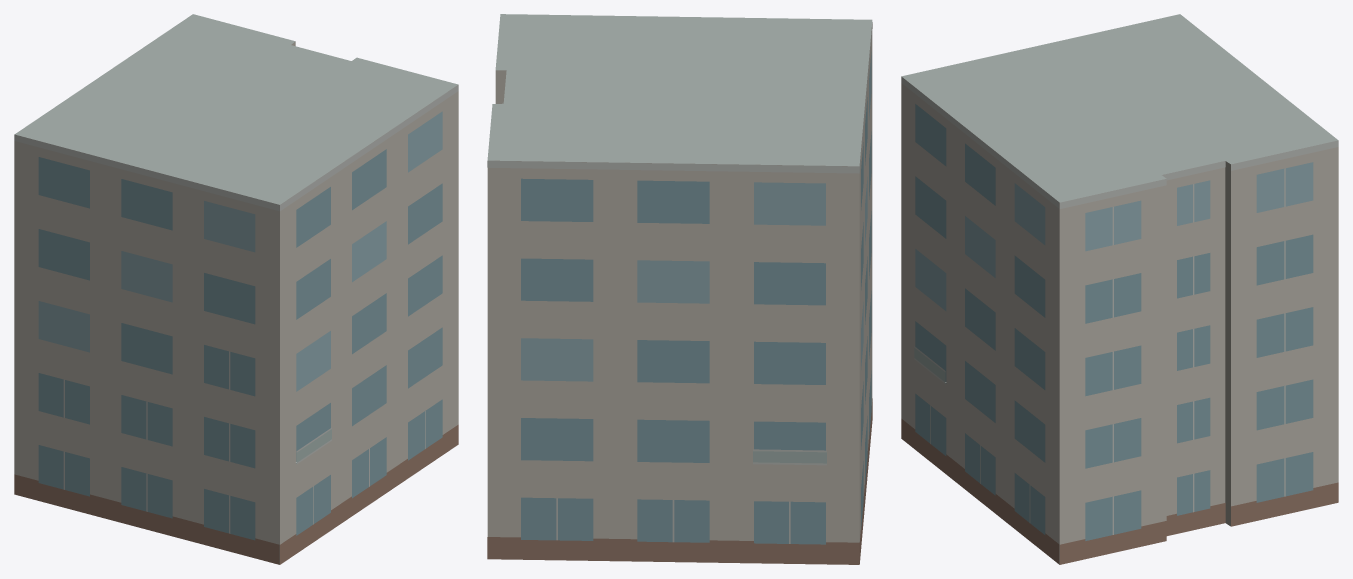
File: survey-upis-32836153.glb
The picture shows the model from 3 angles, left to right: view 1: azimuth 30°, elevation 25°; view 2: azimuth 150°, elevation 25°; view 3: azimuth 270°, elevation 25°; orthographic projection. The views are drawn at different scales.
Parts seen in each view (by area): view 1: survey-upis-32836153.tmp; view 2: survey-upis-32836153.tmp; view 3: survey-upis-32836153.tmp.
Boxes of the visible parts, bbox=[...] form: survey-upis-32836153.tmp: bbox=[14, 14, 458, 564]; survey-upis-32836153.tmp: bbox=[487, 14, 872, 564]; survey-upis-32836153.tmp: bbox=[901, 14, 1338, 564].
Size of the model in its own units: 15.09 by 13.5 by 14.78.
